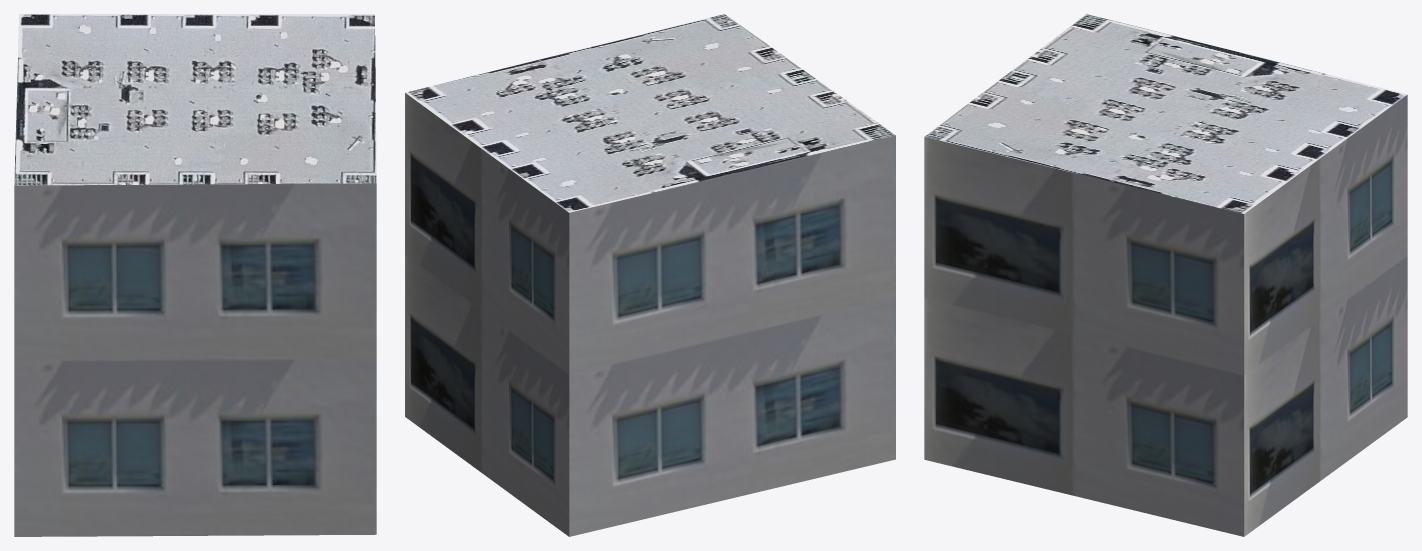
The model's file is ResTex__3995.fbx.
3 views of the same model, side by side, from view 1: azimuth 30°, elevation 25°; view 2: azimuth 150°, elevation 25°; view 3: azimuth 270°, elevation 25° (orthographic). The views are drawn at different scales.
Parts seen in each view (by area): view 1: CityEngineMaterial_10_m, CityEngineMaterial_4_m; view 2: CityEngineMaterial_10_m, CityEngineMaterial_4_m; view 3: CityEngineMaterial_10_m, CityEngineMaterial_4_m.
Part boxes in pixels (x1,y1,x2,y2): CityEngineMaterial_10_m: [14, 183, 376, 536]; CityEngineMaterial_4_m: [14, 14, 376, 185]; CityEngineMaterial_10_m: [405, 93, 895, 536]; CityEngineMaterial_4_m: [405, 14, 895, 212]; CityEngineMaterial_10_m: [924, 94, 1407, 536]; CityEngineMaterial_4_m: [924, 14, 1407, 213].
Size of the model in its own units: 7.97 by 6 by 8.14.
Materials: 2 (2 with a texture image).
